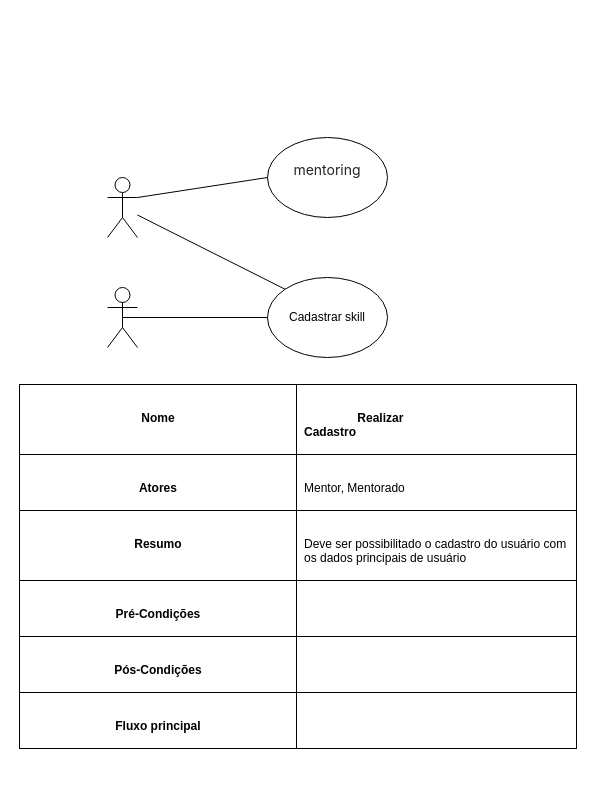
Some shapes in this 594 by 794 pixel diagram are drawn without their labels. Here are the shapes that lost their labels. From the top down, the box of each, then its label:
(106, 176, 138, 238): Mentorado
(106, 286, 138, 348): Mentor
